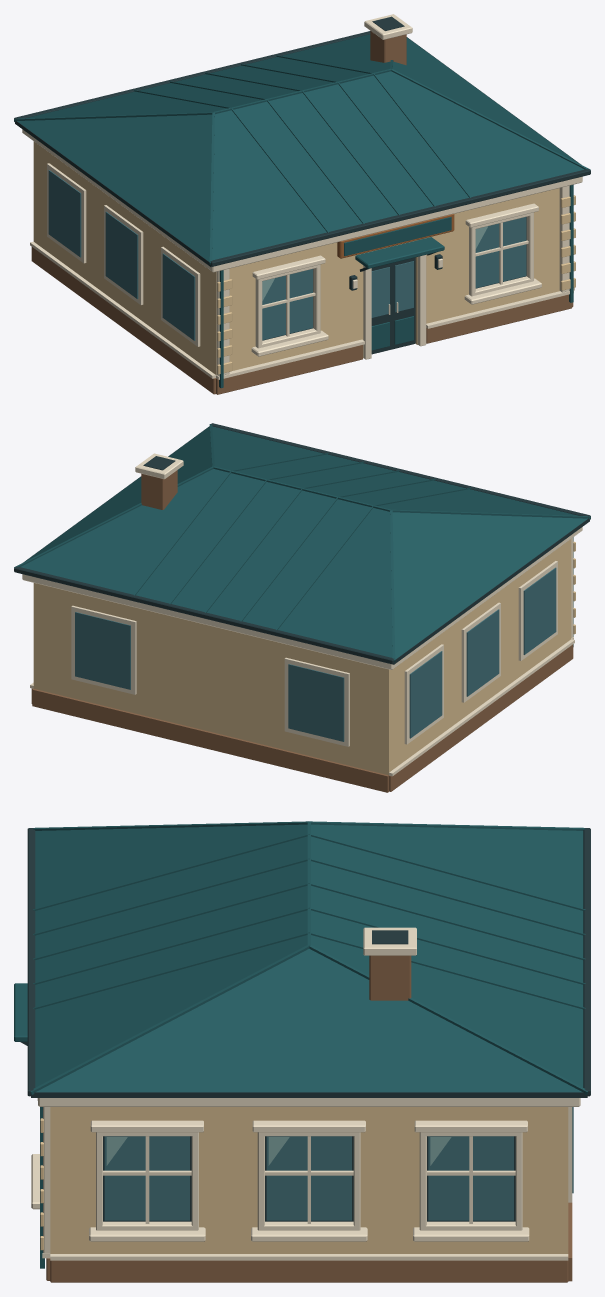
The model's file is workshop.glb.
The picture shows the model from 3 angles, top to bottom: view 1: azimuth 30°, elevation 25°; view 2: azimuth 150°, elevation 25°; view 3: azimuth 270°, elevation 25°; orthographic projection. The views are drawn at different scales.
Visible parts, largest first — view 1: batch-workshop-root-roof, wall-volume, batch-workshop-root-trim, batch-workshop-root-glass, batch-workshop-root-brick, batch-workshop-root-metal, batch-workshop-root-plaster, door-panel, batch-workshop-root-timber; view 2: batch-workshop-root-roof, wall-volume, batch-workshop-root-glass, batch-workshop-root-trim, batch-workshop-root-brick, batch-workshop-root-metal; view 3: batch-workshop-root-roof, wall-volume, batch-workshop-root-trim, batch-workshop-root-glass, batch-workshop-root-brick, batch-workshop-root-metal, batch-workshop-root-glint.
Part boxes in pixels (left/top/right/bottom): batch-workshop-root-roof: left=14, top=34, right=590, bottom=388; wall-volume: left=33, top=141, right=559, bottom=394; batch-workshop-root-trim: left=22, top=14, right=582, bottom=379; batch-workshop-root-glass: left=48, top=170, right=526, bottom=340; batch-workshop-root-brick: left=31, top=31, right=573, bottom=394; batch-workshop-root-metal: left=14, top=16, right=590, bottom=340; batch-workshop-root-plaster: left=217, top=195, right=575, bottom=374; door-panel: left=371, top=257, right=415, bottom=354; batch-workshop-root-timber: left=337, top=214, right=454, bottom=258; batch-workshop-root-roof: left=14, top=424, right=590, bottom=662; wall-volume: left=33, top=539, right=571, bottom=775; batch-workshop-root-glass: left=75, top=567, right=556, bottom=741; batch-workshop-root-trim: left=22, top=453, right=582, bottom=776; batch-workshop-root-brick: left=31, top=470, right=573, bottom=792; batch-workshop-root-metal: left=14, top=423, right=590, bottom=664; batch-workshop-root-roof: left=14, top=821, right=587, bottom=1268; wall-volume: left=50, top=1107, right=568, bottom=1253; batch-workshop-root-trim: left=31, top=927, right=580, bottom=1260; batch-workshop-root-glass: left=104, top=1107, right=573, bottom=1220; batch-workshop-root-brick: left=46, top=955, right=572, bottom=1282; batch-workshop-root-metal: left=20, top=828, right=590, bottom=1221; batch-workshop-root-glint: left=106, top=1137, right=451, bottom=1165.
Size of the model in its own units: 9.65 by 5.12 by 8.91.
